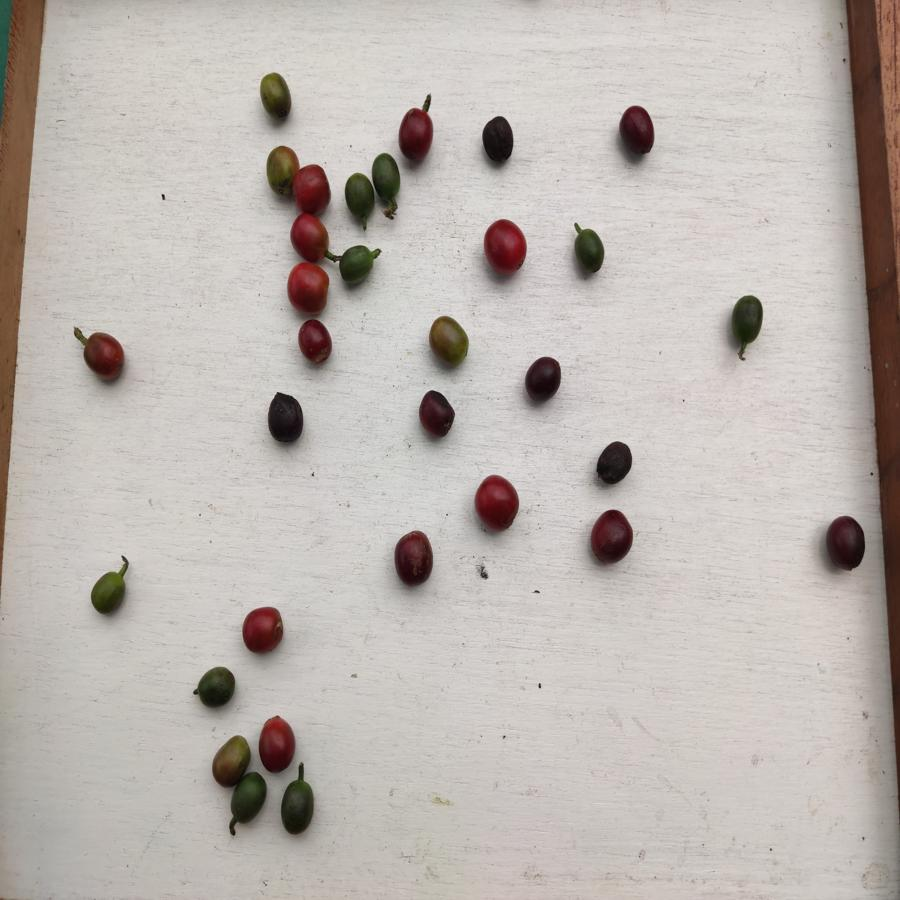Inmaduro: (277, 777, 317, 839), (232, 771, 271, 830), (569, 228, 610, 279), (726, 293, 764, 345), (89, 568, 129, 616), (197, 666, 234, 710), (346, 174, 377, 223), (339, 242, 377, 280), (374, 152, 402, 200)
Maduro: (482, 217, 530, 276), (475, 476, 522, 533), (80, 333, 127, 385), (241, 602, 286, 654), (256, 714, 295, 773), (287, 263, 330, 313), (293, 162, 333, 213), (292, 214, 329, 264)
Pinton: (426, 314, 471, 369), (255, 71, 295, 123), (211, 734, 250, 780), (265, 143, 298, 196)
Sobremaduro: (392, 529, 437, 589), (591, 508, 635, 565), (826, 515, 868, 574), (615, 103, 659, 158), (263, 391, 305, 446), (397, 105, 436, 159), (417, 388, 457, 437), (524, 357, 563, 405), (595, 441, 634, 487), (481, 115, 515, 162), (298, 317, 332, 362)
